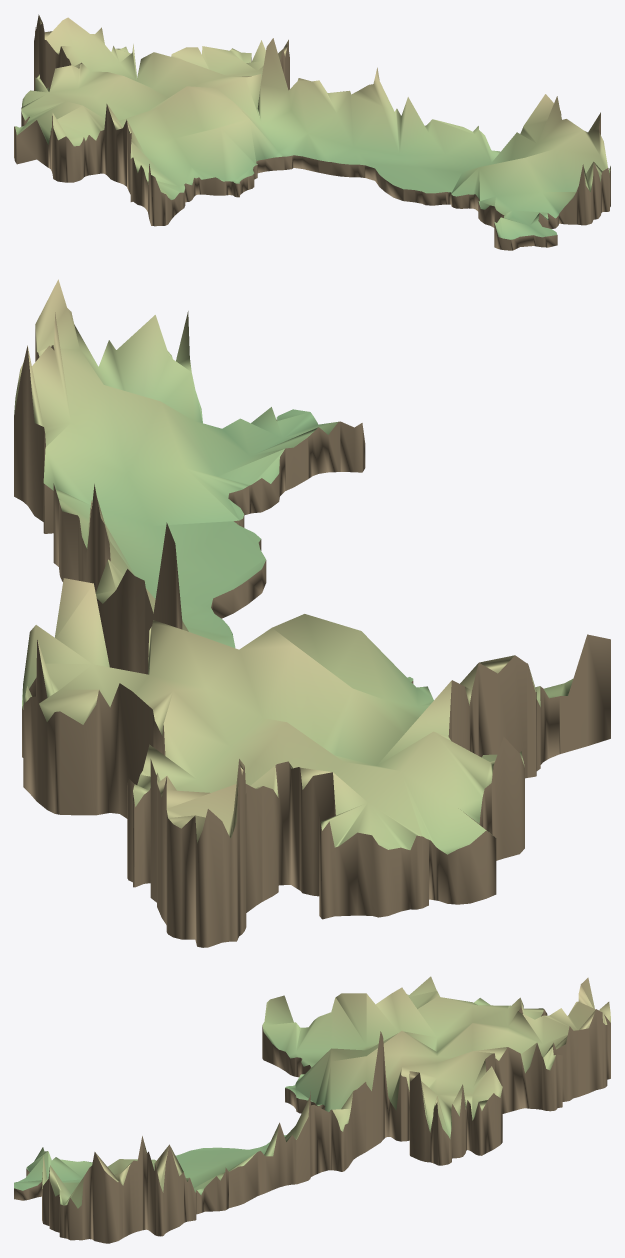
The model's file is LAO.glb.
3 views of the same model, one above another, from view 1: azimuth 30°, elevation 25°; view 2: azimuth 150°, elevation 25°; view 3: azimuth 270°, elevation 25° (orthographic). The views are drawn at different scales.
Parts seen in each view (by area): view 1: LAO; view 2: LAO; view 3: LAO.
Part boxes in pixels (box(x1,y1,x2,y2)): LAO: box(14, 14, 610, 250); LAO: box(14, 279, 610, 947); LAO: box(14, 976, 610, 1243).
Bounding box in the file's own units: 1.36 × 0.338 × 1.63.
